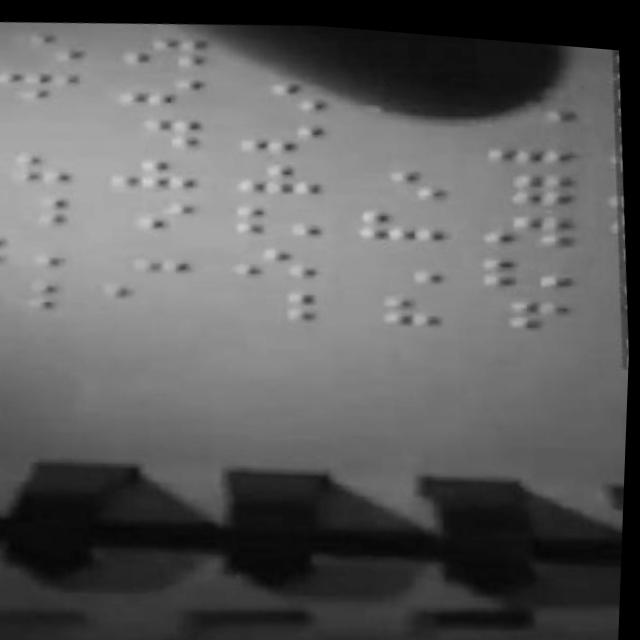braiile: (99, 139, 207, 197), (467, 114, 585, 166), (472, 241, 582, 295), (341, 187, 450, 241), (470, 195, 585, 246), (217, 190, 325, 244), (97, 100, 207, 153), (343, 232, 449, 286), (217, 232, 322, 286), (99, 229, 203, 282), (341, 150, 450, 200), (221, 107, 330, 157), (218, 149, 326, 199), (105, 59, 208, 111), (97, 188, 203, 238), (108, 23, 214, 72), (480, 283, 583, 333), (218, 276, 321, 326), (475, 158, 580, 207), (347, 279, 449, 328), (0, 18, 91, 68), (0, 59, 86, 111), (0, 139, 82, 191), (0, 187, 78, 234), (0, 270, 72, 320), (0, 229, 74, 276)
